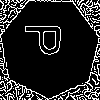P: (25, 22, 70, 57)
